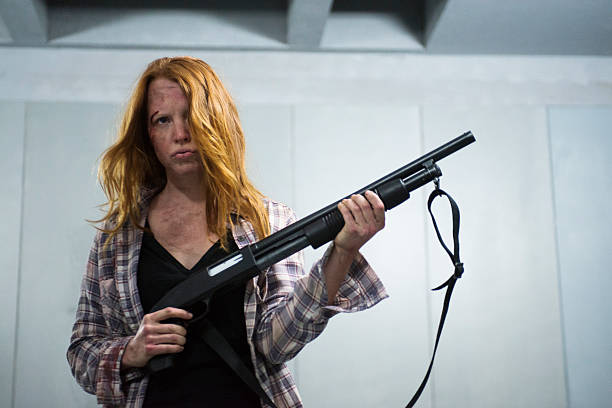shotgun: (137, 130, 476, 383)
